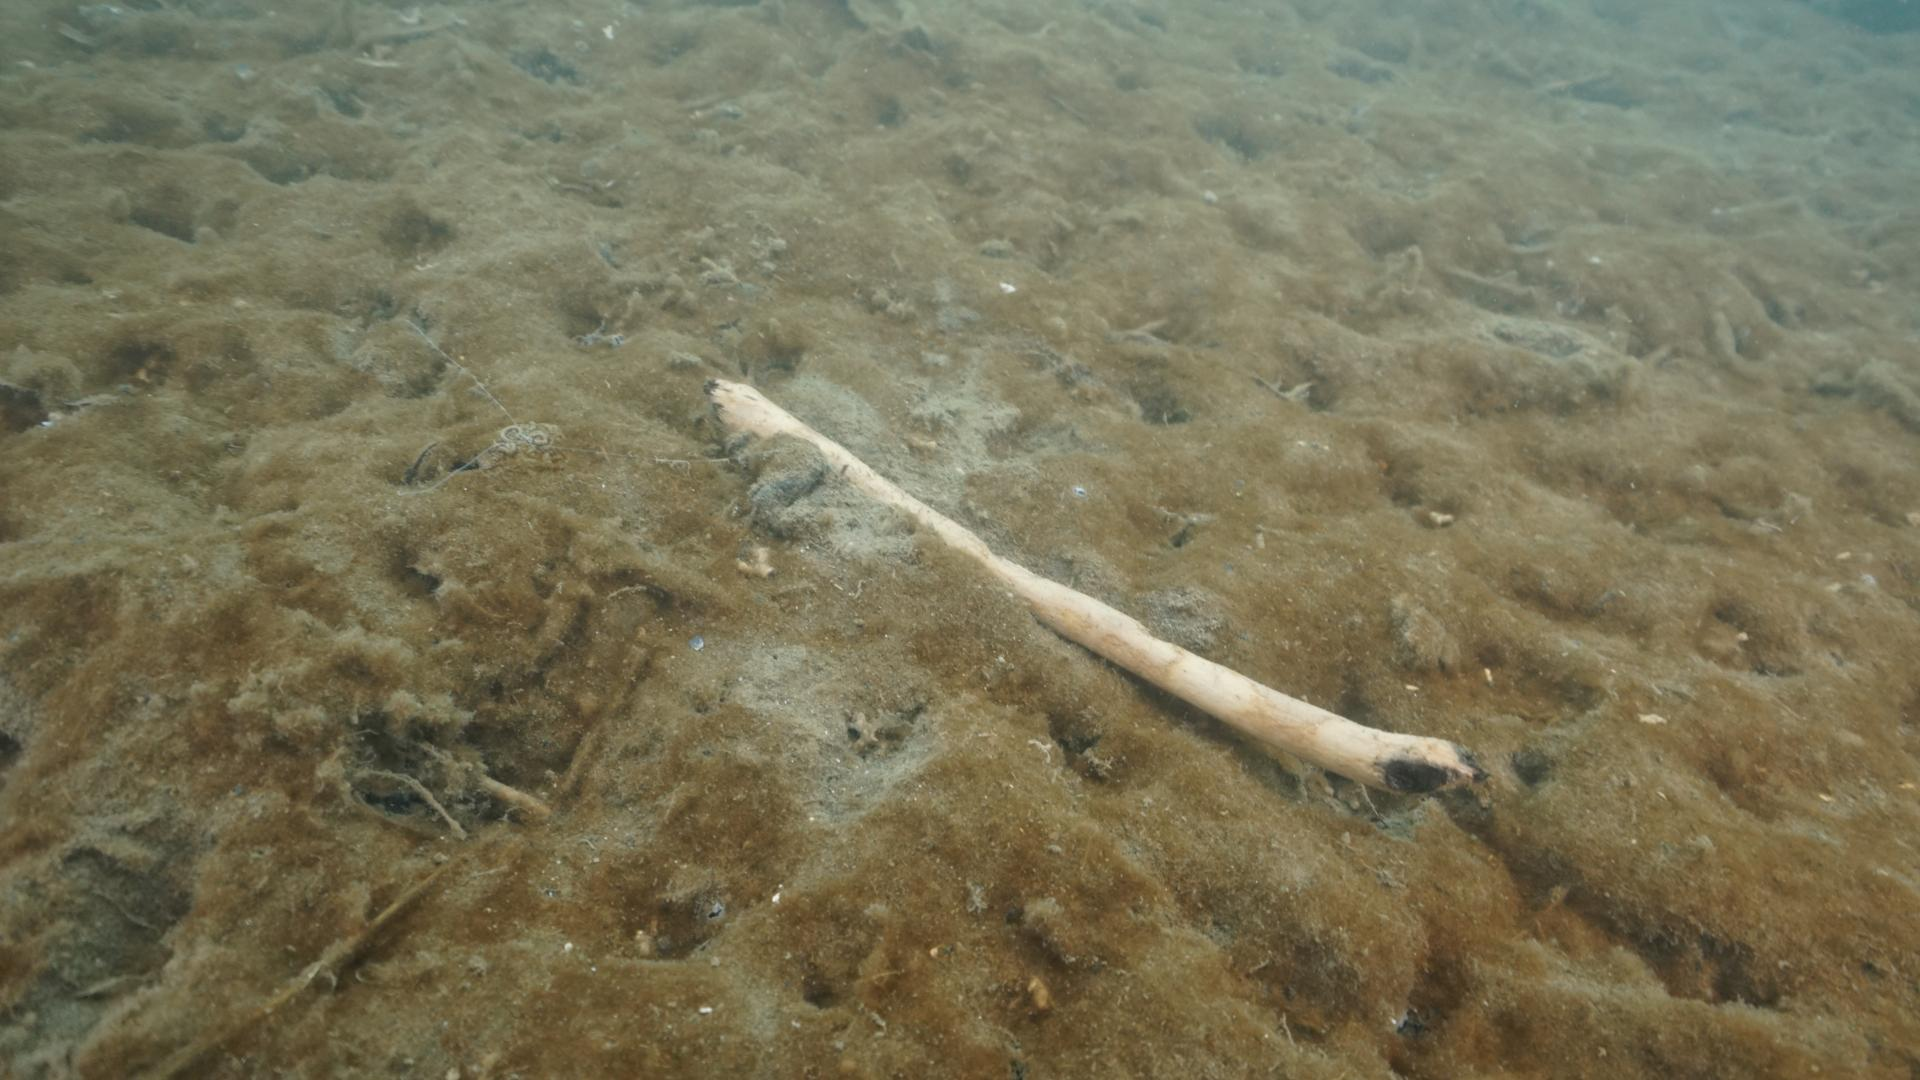wood: (699, 372, 1490, 799)
